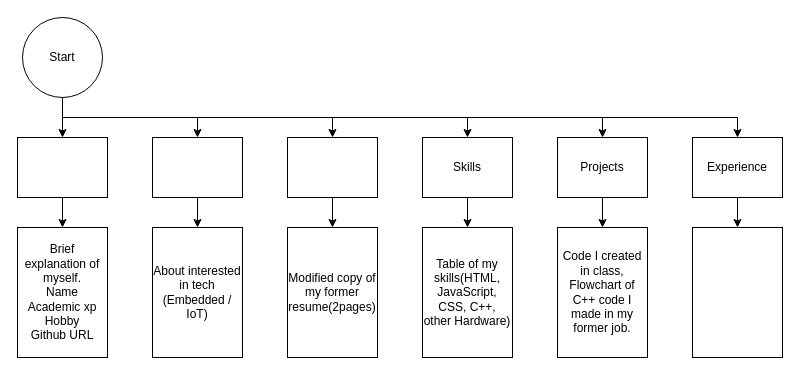
This 800x375 diagram has some shape labels left out. The shapes that lost their labels are listed below. From the top down, each one's centre as x and y in pixels, then its label:
At (62,167): "About me".
At (197,167): "Objective".
At (332,167): "Resume".
At (737,292): "Detail explanation in carrer".
